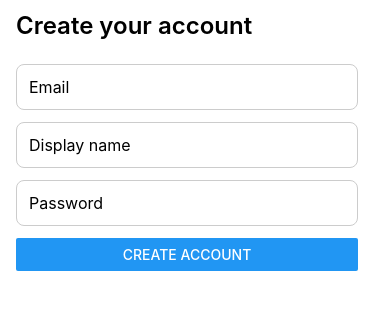
Test: clears the old error when trying again
In the field with placeholder "Email": (187, 87) [16, 64, 358, 110], type "adam@test.com"
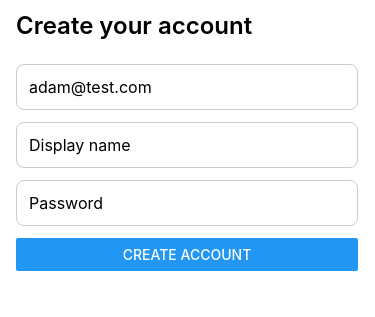
In the field with placeholder "Display name": (187, 145) [16, 122, 358, 168], type "adam"
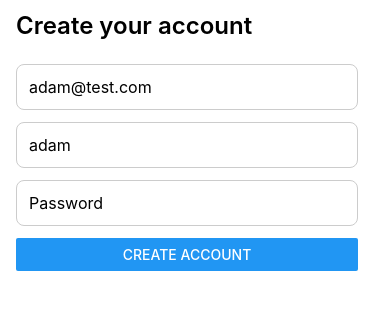
In the password field with placeholder "Password": (187, 203) [16, 180, 358, 226], type "password123"
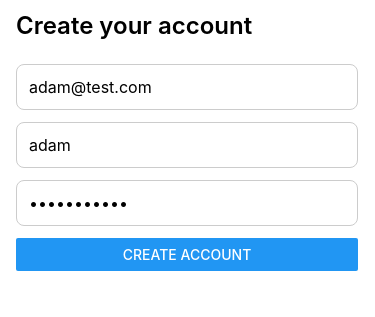
Click the button "Create account": click(187, 254) [16, 238, 358, 271]
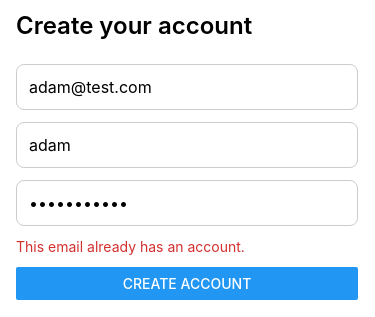
Expected: the text "This email already has an account." is shown, [16, 238, 245, 255]
Click the button "Create account": click(187, 284) [16, 267, 358, 300]
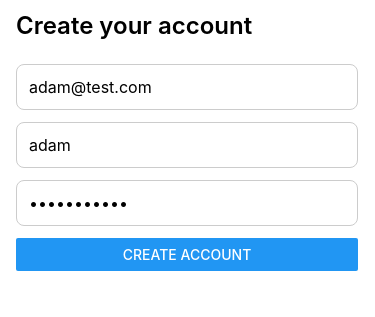
Expected: the text "This email already has an account." is gone
